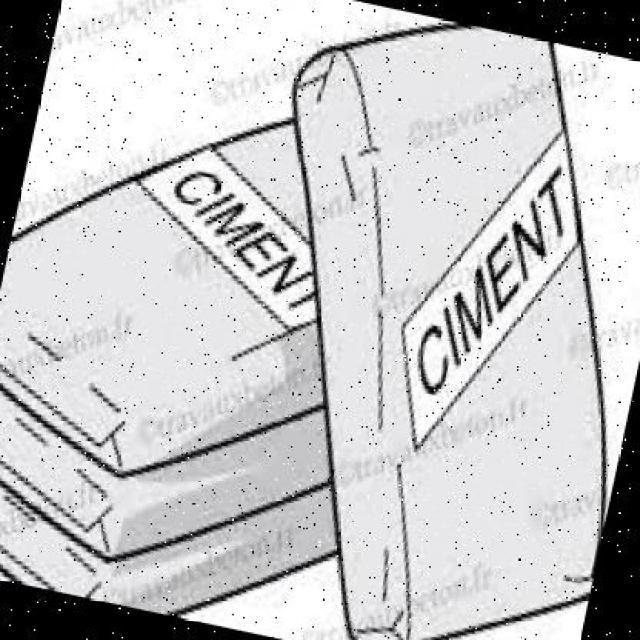gunny_bag: (311, 34, 595, 640), (0, 122, 314, 434), (0, 385, 119, 555), (0, 477, 103, 599)
